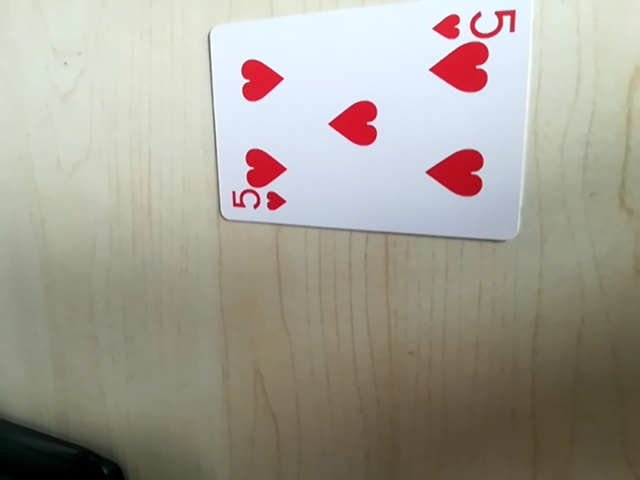hx 5: (430, 3, 521, 44), (224, 188, 289, 221)
